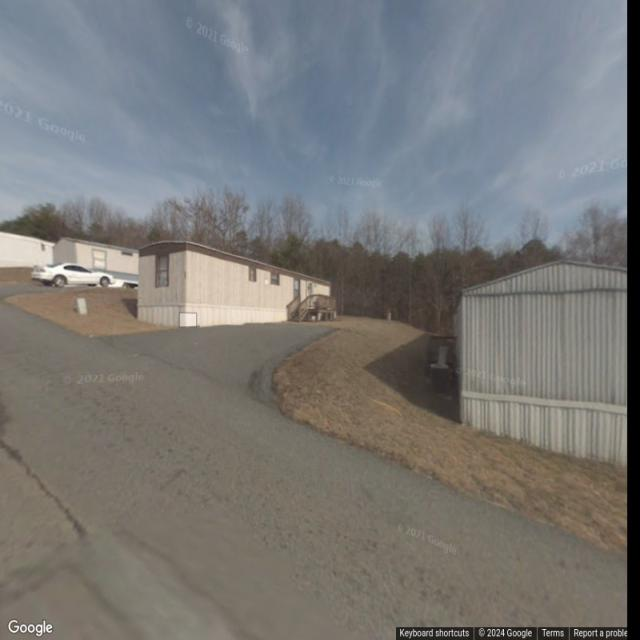House: (455, 255, 625, 460), (139, 240, 333, 334), (53, 237, 138, 289), (0, 224, 56, 270)
